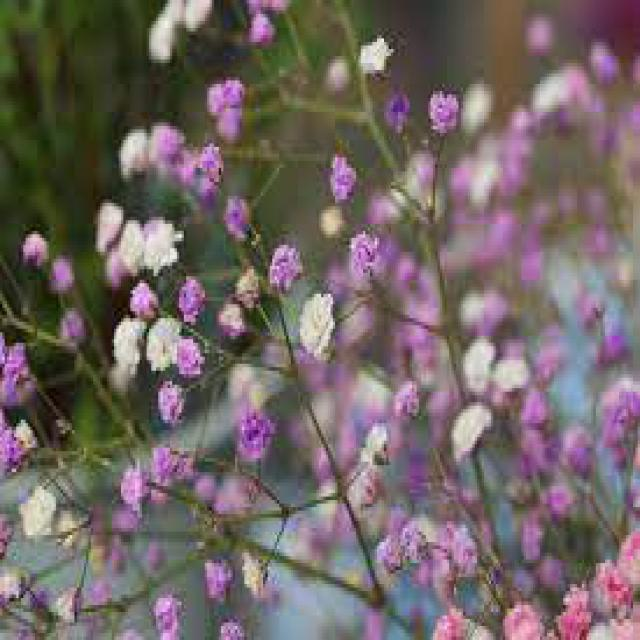gypsophila: (444, 389, 503, 485), (140, 309, 187, 387), (294, 289, 339, 363), (16, 485, 68, 546), (137, 217, 187, 279), (344, 33, 404, 82), (458, 328, 494, 408), (112, 323, 145, 381)
